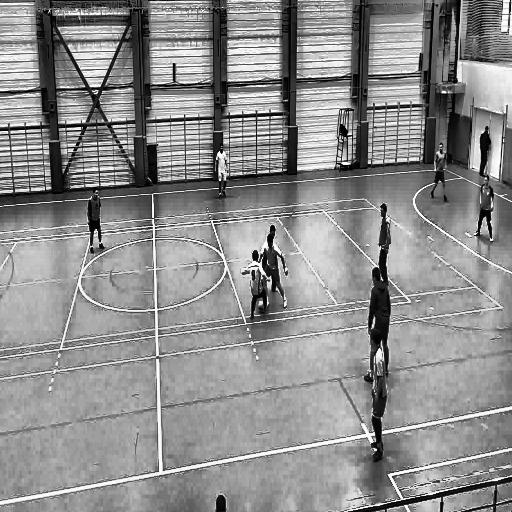ball: (256, 300, 266, 314)
player: (366, 327, 389, 462), (364, 268, 390, 382), (258, 235, 288, 315), (240, 249, 271, 322), (474, 174, 494, 244), (87, 184, 106, 255), (261, 220, 279, 294), (430, 141, 450, 204), (378, 200, 392, 286), (213, 140, 229, 201), (479, 122, 493, 178)
